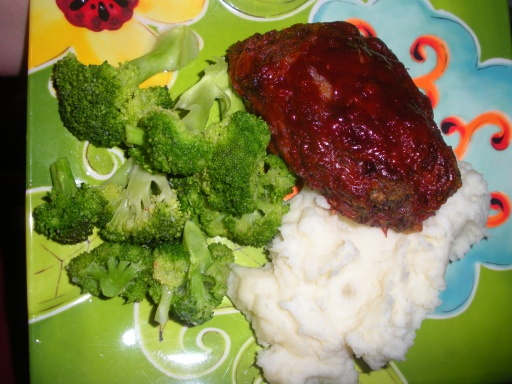background: (26, 13, 394, 230)
